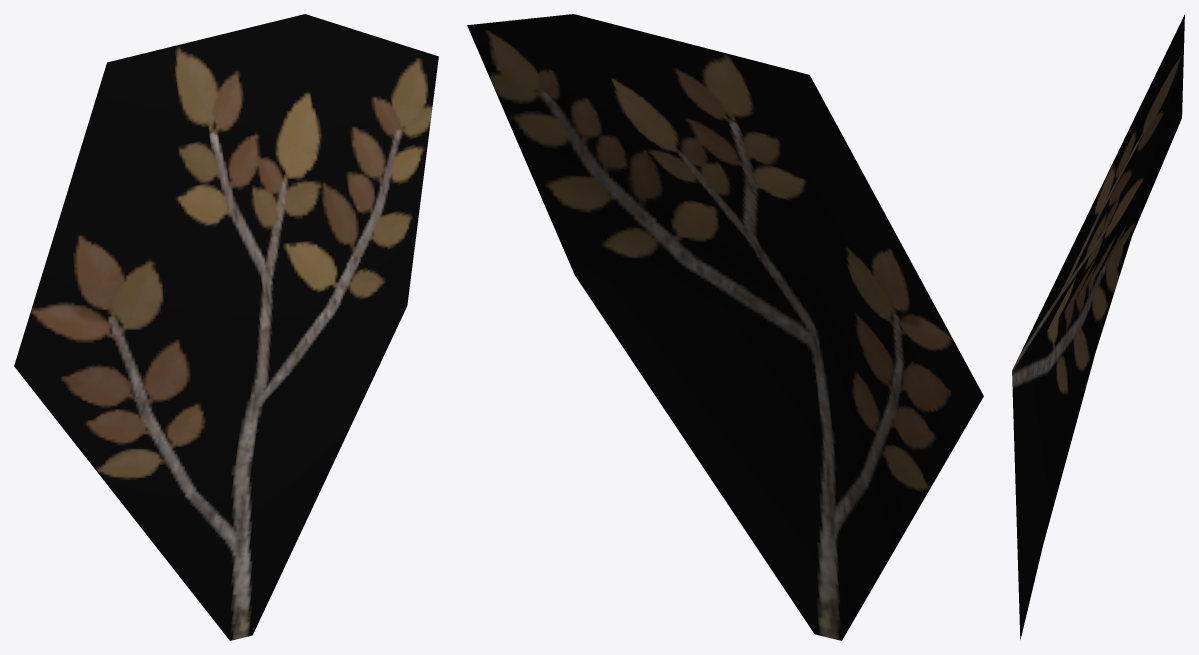
File: rama_arbusto_1.fbx
The picture shows the model from 3 angles, left to right: view 1: azimuth 30°, elevation 25°; view 2: azimuth 150°, elevation 25°; view 3: azimuth 270°, elevation 25°; orthographic projection. The views are drawn at different scales.
Parts seen in each view (by area): view 1: rama_arbusto_1; view 2: rama_arbusto_1; view 3: rama_arbusto_1.
Boxes of the visible parts, left/top/right/bottom form: rama_arbusto_1: left=14, top=14, right=438, bottom=640; rama_arbusto_1: left=467, top=14, right=983, bottom=640; rama_arbusto_1: left=1012, top=14, right=1184, bottom=639.
Size of the model in its own units: 110 by 132 by 35.17.
